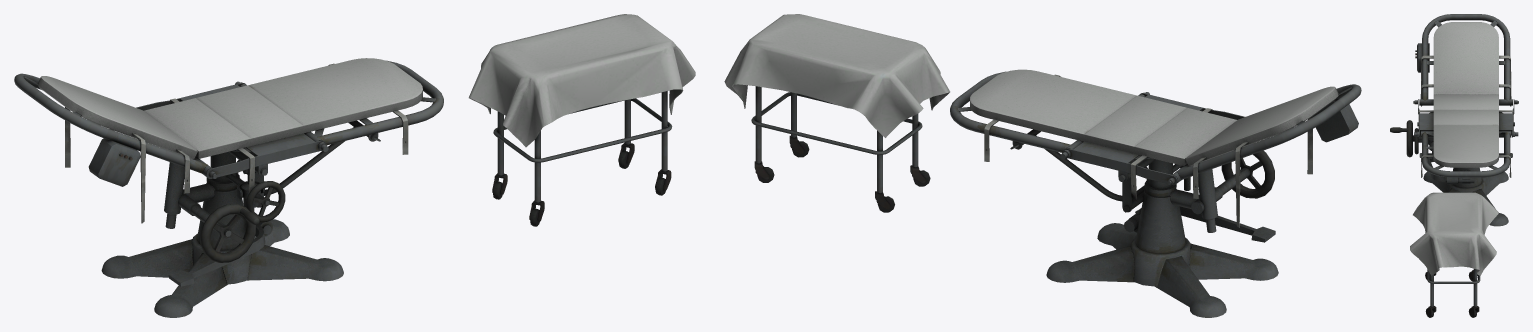
The model's file is med_table.glb.
The picture shows the model from 3 angles, left to right: view 1: azimuth 30°, elevation 25°; view 2: azimuth 150°, elevation 25°; view 3: azimuth 270°, elevation 25°; orthographic projection. The views are drawn at different scales.
Visible parts, largest first — view 1: smd\med_table001.smd_0, smd\med_table002.smd_1; view 2: smd\med_table001.smd_0, smd\med_table002.smd_1; view 3: smd\med_table001.smd_0, smd\med_table002.smd_1.
Boxes of the visible parts, x1=… form: smd\med_table001.smd_0: x1=14, y1=58, x2=443, y2=317; smd\med_table002.smd_1: x1=468, y1=14, x2=695, y2=226; smd\med_table001.smd_0: x1=950, y1=69, x2=1361, y2=317; smd\med_table002.smd_1: x1=724, y1=14, x2=950, y2=212; smd\med_table001.smd_0: x1=1390, y1=14, x2=1518, y2=226; smd\med_table002.smd_1: x1=1410, y1=192, x2=1498, y2=317.
Size of the model in its own units: 3.69 by 1.25 by 1.09.
Materials: 2 (2 with a texture image).
